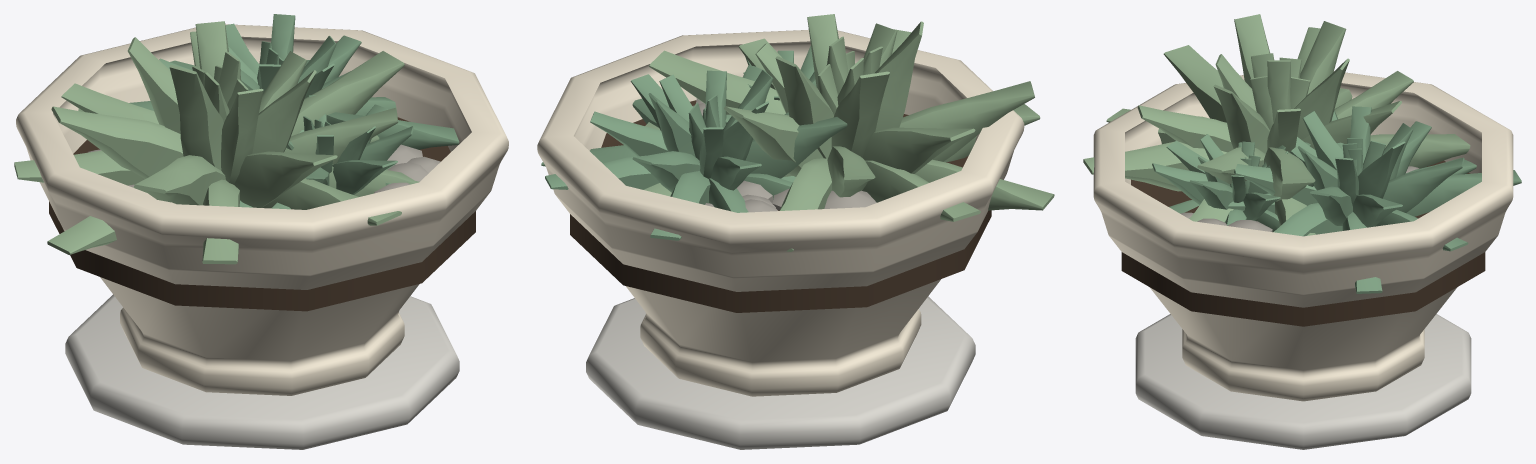
File: petit_coupe_grasses.glb
3 views of the same model, side by side, from view 1: azimuth 30°, elevation 25°; view 2: azimuth 150°, elevation 25°; view 3: azimuth 270°, elevation 25° (orthographic). The views are drawn at different scales.
Visible parts, largest first — view 1: PTC_Pot_Creme, PTC_Grasse, PTC_Embase, PTC_Cactus, PTC_Terre, PTC_Galets; view 2: PTC_Pot_Creme, PTC_Grasse, PTC_Embase, PTC_Cactus, PTC_Terre, PTC_Galets; view 3: PTC_Pot_Creme, PTC_Grasse, PTC_Cactus, PTC_Embase, PTC_Terre, PTC_Galets.
Part boxes in pixels (bbox=[...]): PTC_Pot_Creme: bbox=[16, 24, 508, 395]; PTC_Grasse: bbox=[14, 21, 419, 264]; PTC_Embase: bbox=[65, 294, 459, 449]; PTC_Cactus: bbox=[129, 14, 459, 209]; PTC_Terre: bbox=[49, 117, 475, 311]; PTC_Galets: bbox=[88, 144, 440, 193]; PTC_Pot_Creme: bbox=[537, 29, 1024, 396]; PTC_Grasse: bbox=[643, 14, 1054, 251]; PTC_Embase: bbox=[586, 296, 975, 449]; PTC_Cactus: bbox=[541, 45, 847, 240]; PTC_Terre: bbox=[570, 100, 991, 312]; PTC_Galets: bbox=[692, 98, 876, 212]; PTC_Pot_Creme: bbox=[1093, 71, 1513, 401]; PTC_Grasse: bbox=[1083, 14, 1470, 235]; PTC_Cactus: bbox=[1152, 106, 1521, 293]; PTC_Embase: bbox=[1135, 314, 1471, 449]; PTC_Terre: bbox=[1121, 160, 1485, 326]; PTC_Galets: bbox=[1180, 166, 1418, 231].
Size of the model in its own units: 0.4769 by 0.3545 by 0.4474.
